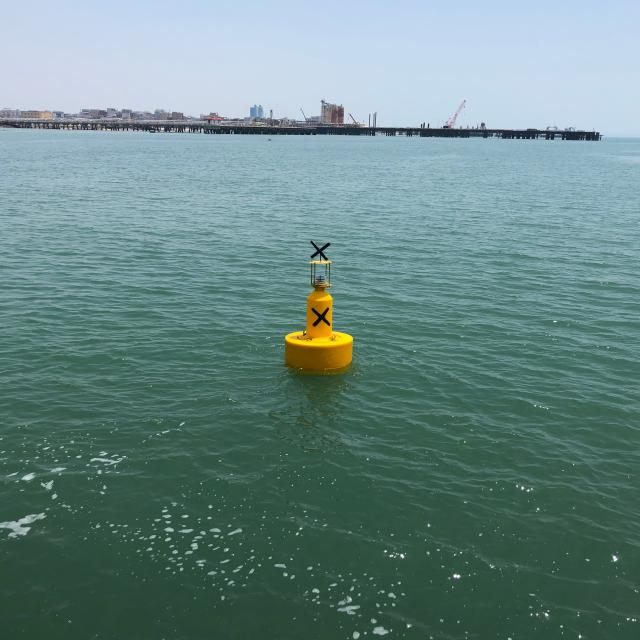buoy: (270, 235, 359, 368)
